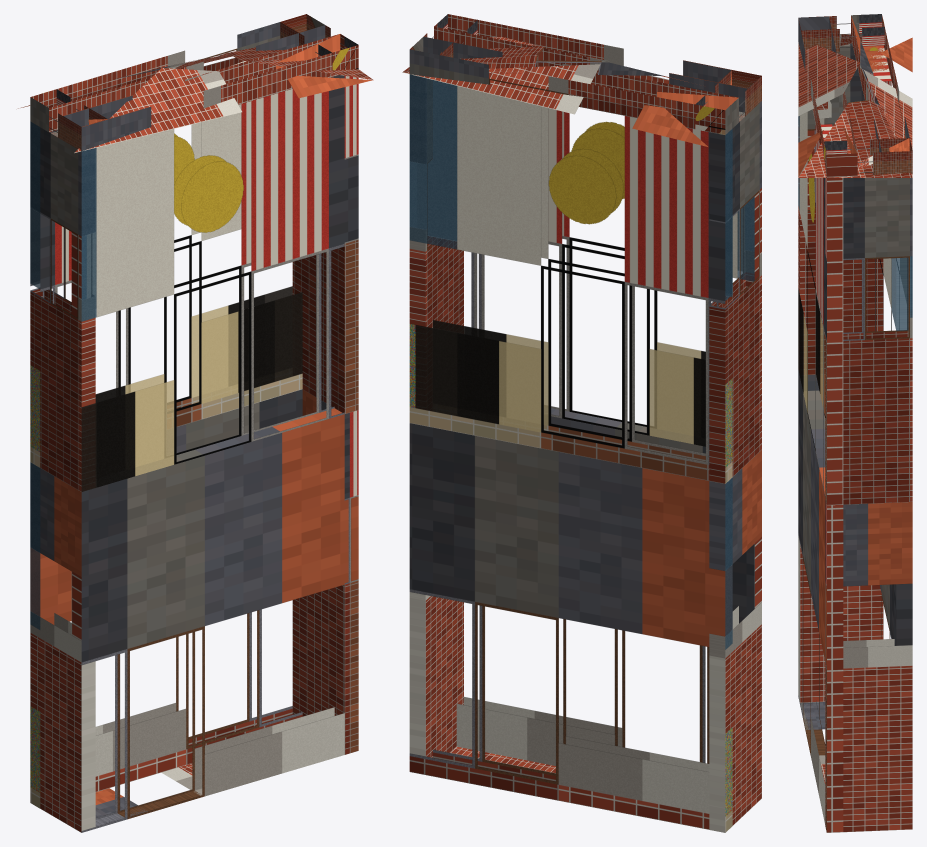
3 renders of one model, left to right at view 1: azimuth 30°, elevation 25°; view 2: azimuth 150°, elevation 25°; view 3: azimuth 270°, elevation 25°, orthographic. The views are drawn at different scales.
Parts seen in each view (by area): view 1: 238563111__wall_1_xb, 238563111__wall_3_xb, 238563111__wall_0_xb, 238563111__wall_2_xb, 238563111__wall_3_xf, 238563111__wall_1_xf, 238563111__cornice_1, 238563111__cornice_3, 238563111_roof_front_xb, 238563111__base, 238563111__cornice_2, 238563111_roof_right_xb (+1 smaller); view 2: 238563111__wall_3_xb, 238563111__wall_0_xb, 238563111__wall_1_xb, 238563111__wall_3_xf, 238563111__wall_2_xb, 238563111__cornice_3, 238563111__wall_1_xf, 238563111__cornice_1, 238563111_roof_back_xb, 238563111_roof_right_xb, 238563111__cornice_0, 238563111__base; view 3: 238563111__wall_2_xb, 238563111__wall_1_xb, 238563111__wall_0_xb, 238563111__wall_3_xb, 238563111_roof_right_xb, 238563111_roof_front_xb, 238563111__cornice_1, 238563111_roof_back_xb, 238563111__cornice_2, 238563111__cornice_0, 238563111__wall_1_xf, 238563111__cornice_3 (+2 smaller).
Boxes of the visible parts, x1,y1,x2,y2 form: 238563111__wall_1_xb: [71, 75, 358, 832]; 238563111__wall_3_xb: [30, 61, 302, 808]; 238563111__wall_0_xb: [30, 122, 95, 832]; 238563111__wall_2_xb: [292, 76, 358, 754]; 238563111__wall_3_xf: [30, 122, 301, 792]; 238563111__wall_1_xf: [82, 148, 331, 809]; 238563111__cornice_1: [63, 34, 358, 150]; 238563111__cornice_3: [30, 16, 325, 132]; 238563111_roof_front_xb: [74, 68, 373, 152]; 238563111__base: [95, 763, 202, 825]; 238563111__cornice_2: [280, 14, 358, 70]; 238563111_roof_right_xb: [117, 47, 372, 79]; 238563111__wall_3_xb: [409, 74, 732, 832]; 238563111__wall_0_xb: [709, 101, 761, 832]; 238563111__wall_1_xb: [456, 108, 761, 765]; 238563111__wall_3_xf: [410, 75, 732, 815]; 238563111__wall_2_xb: [409, 75, 463, 757]; 238563111__cornice_3: [409, 36, 738, 134]; 238563111__wall_1_xf: [562, 122, 754, 734]; 238563111__cornice_1: [434, 14, 760, 112]; 238563111_roof_back_xb: [402, 64, 707, 146]; 238563111_roof_right_xb: [402, 36, 663, 75]; 238563111__cornice_0: [695, 70, 761, 134]; 238563111__base: [450, 746, 555, 773]; 238563111__wall_2_xb: [825, 178, 912, 832]; 238563111__wall_1_xb: [798, 112, 843, 832]; 238563111__wall_0_xb: [798, 43, 883, 702]; 238563111__wall_3_xb: [867, 46, 912, 645]; 238563111_roof_right_xb: [798, 40, 912, 177]; 238563111_roof_front_xb: [798, 42, 859, 176]; 238563111__cornice_1: [798, 16, 857, 177]; 238563111_roof_back_xb: [864, 37, 912, 176]; 238563111__cornice_2: [824, 138, 912, 177]; 238563111__cornice_0: [799, 14, 884, 52]; 238563111__wall_1_xf: [798, 116, 824, 412]; 238563111__cornice_3: [851, 14, 909, 152].
Bounding box in the file's own units: 0.3221 × 0.7333 × 0.1109.
Materials: 1 (1 with a texture image).
